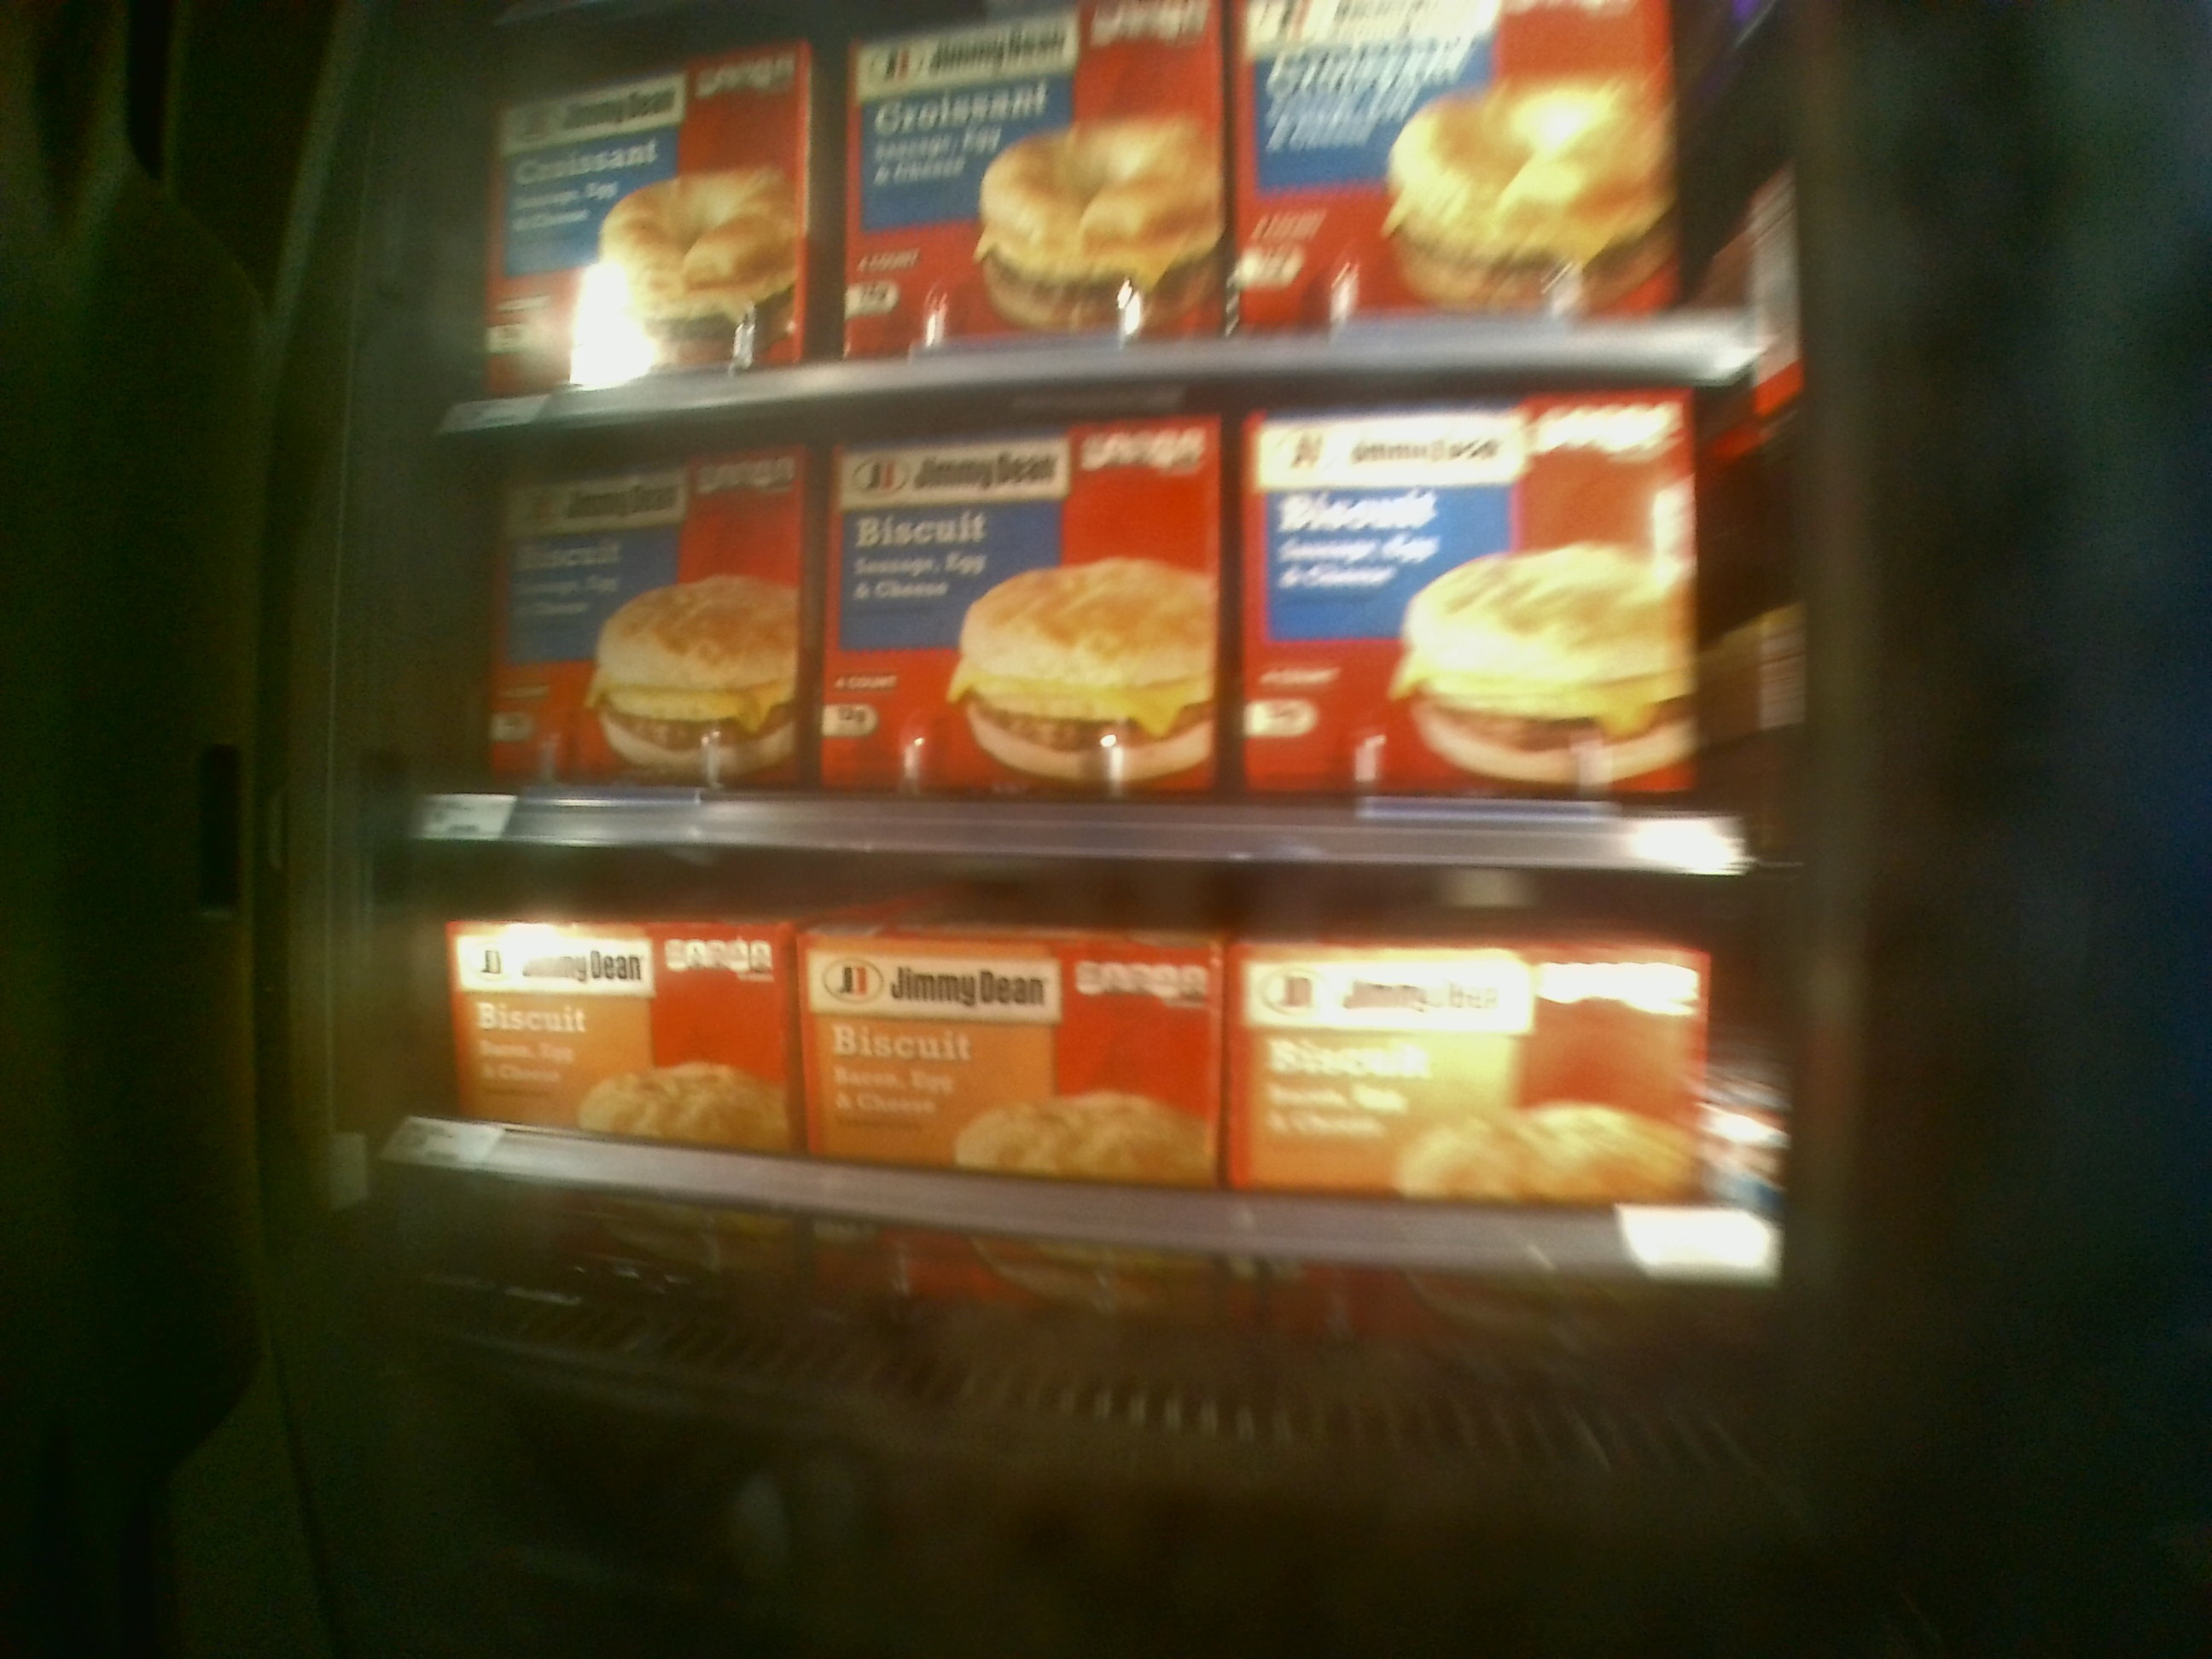shelf: (394, 364, 1777, 889), (376, 838, 1780, 1349)
